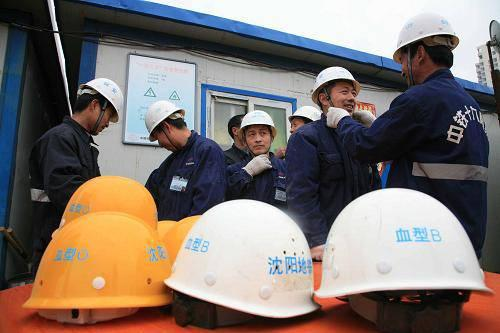helmet: (320, 189, 493, 303), (165, 206, 317, 319), (28, 213, 172, 310), (54, 179, 159, 230), (393, 15, 461, 54), (82, 74, 131, 125), (146, 101, 187, 142), (313, 66, 363, 94), (240, 111, 278, 133), (290, 104, 322, 124)
